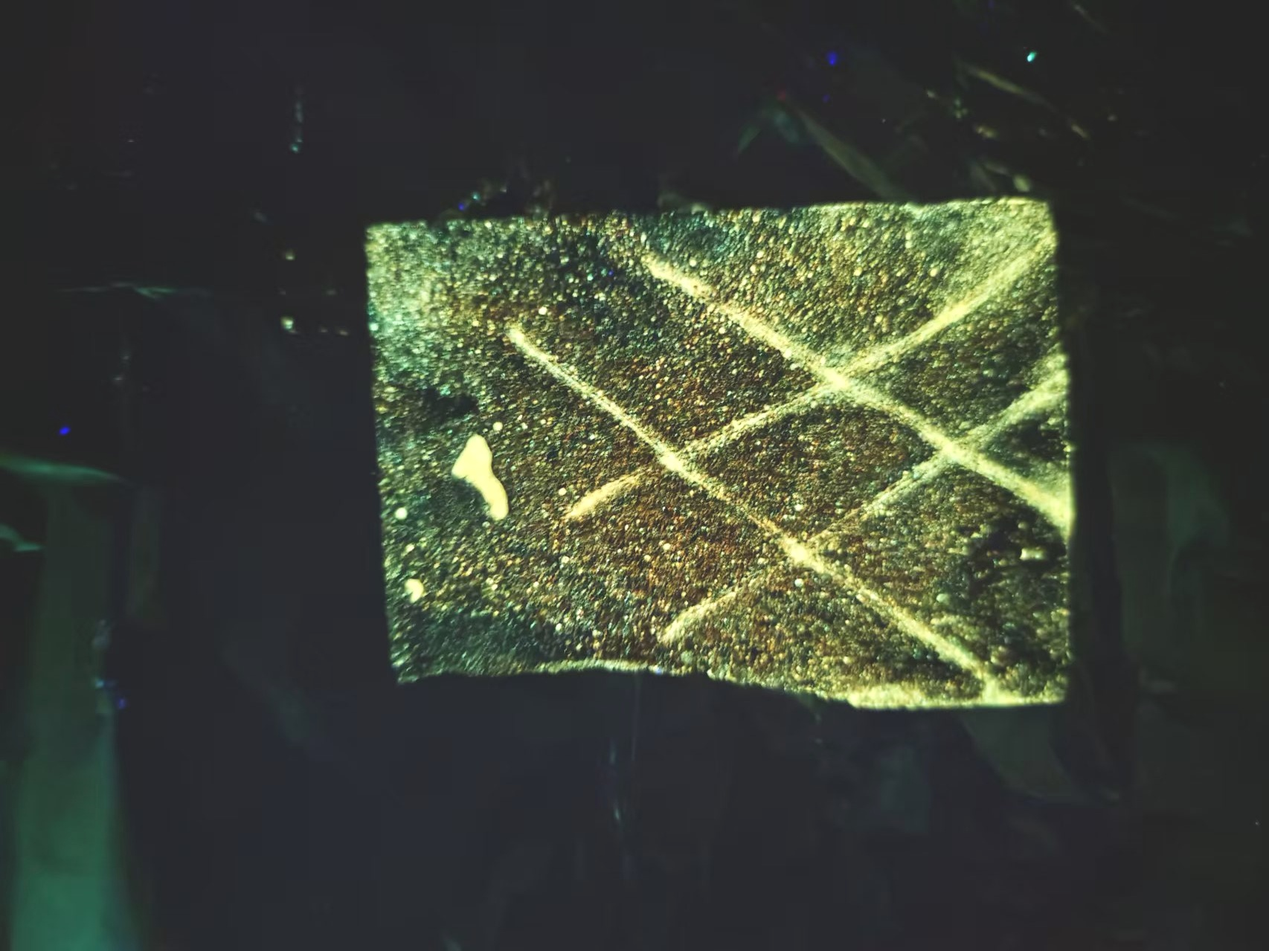Fissure: (495, 313, 1001, 713), (545, 232, 1061, 536), (637, 253, 1065, 530), (639, 374, 1063, 652)
